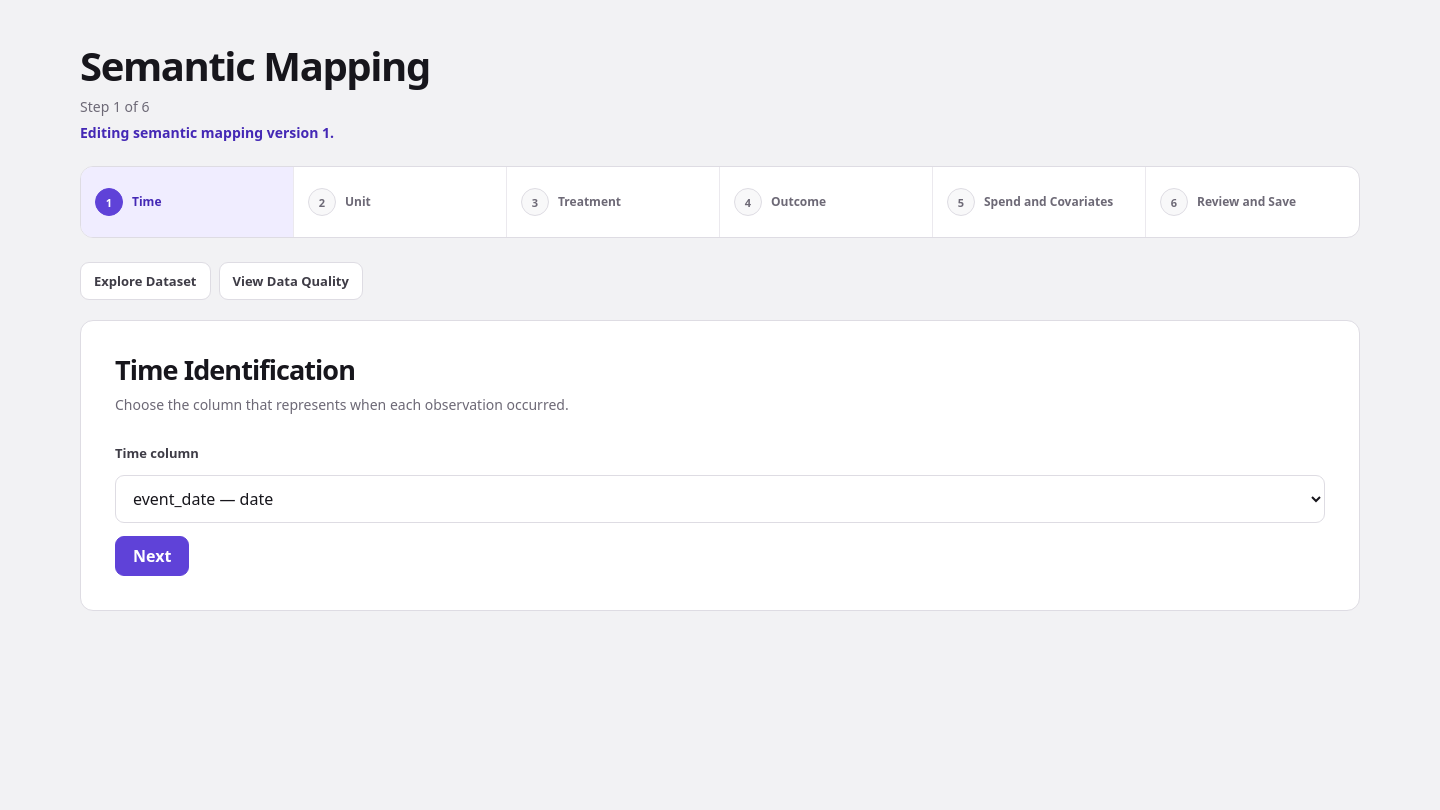
Test: Semantic Mapping final defensive validation › blocks an invalid stale draft before Review and Save
The image size is (1440, 810).
Expected: the text "Step 1 of 6" is shown, [80,97,150,116]
Click the button "Next" at (152, 556), box [115,536,189,576]
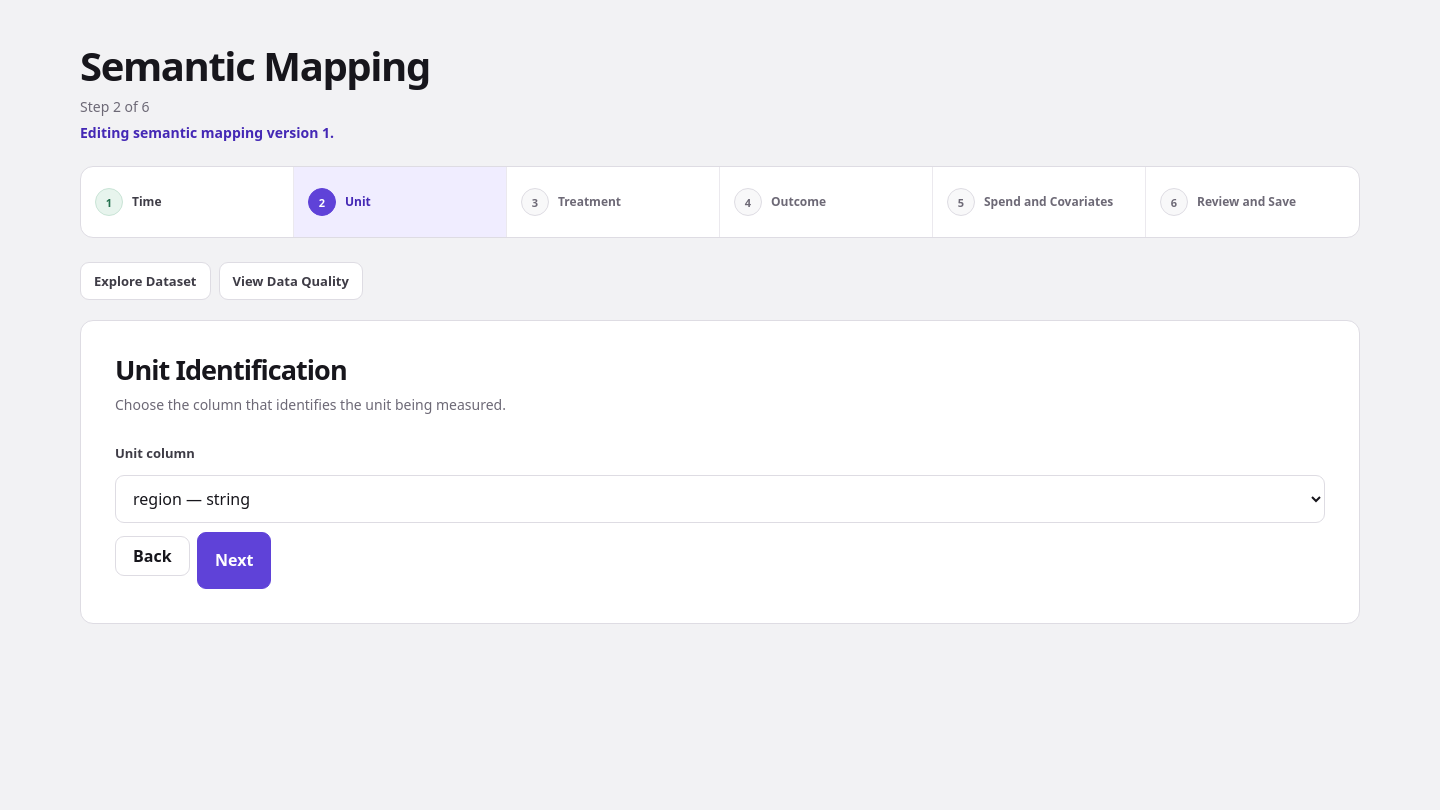
Click the button "Next" at (234, 560), box [197,532,271,589]
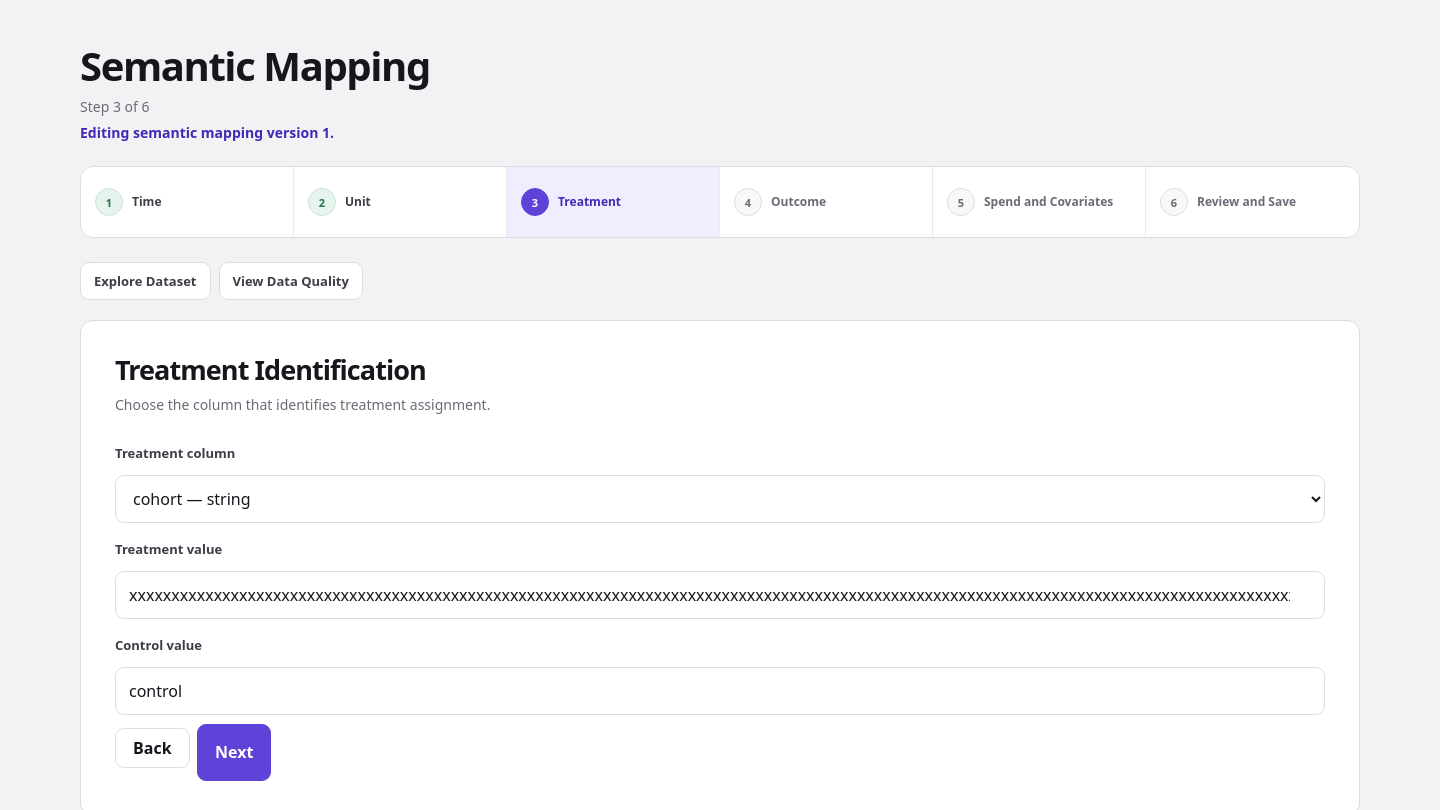
Click the button "Next" at (234, 752), box [197,724,271,781]
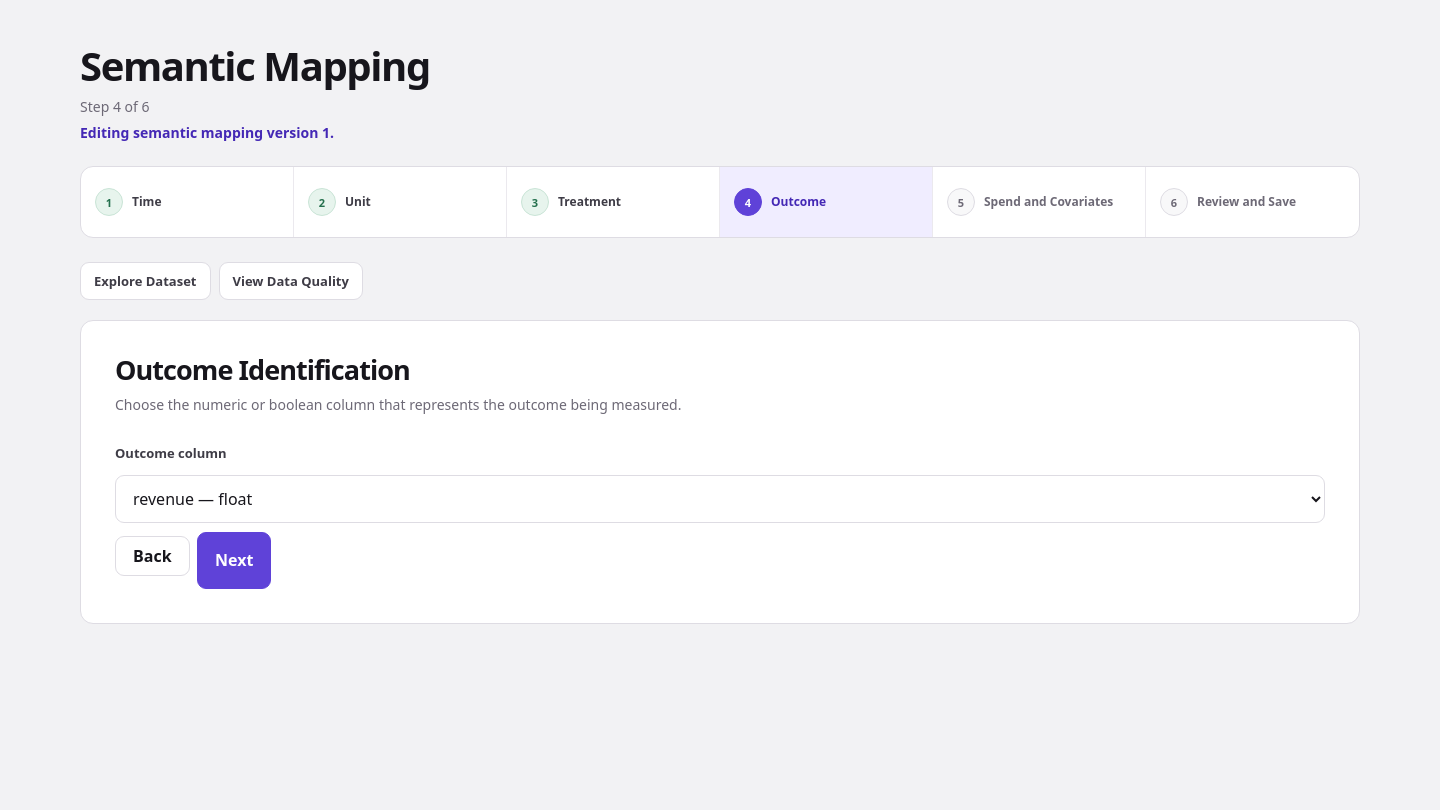
Click the button "Next" at (234, 560), box [197,532,271,589]
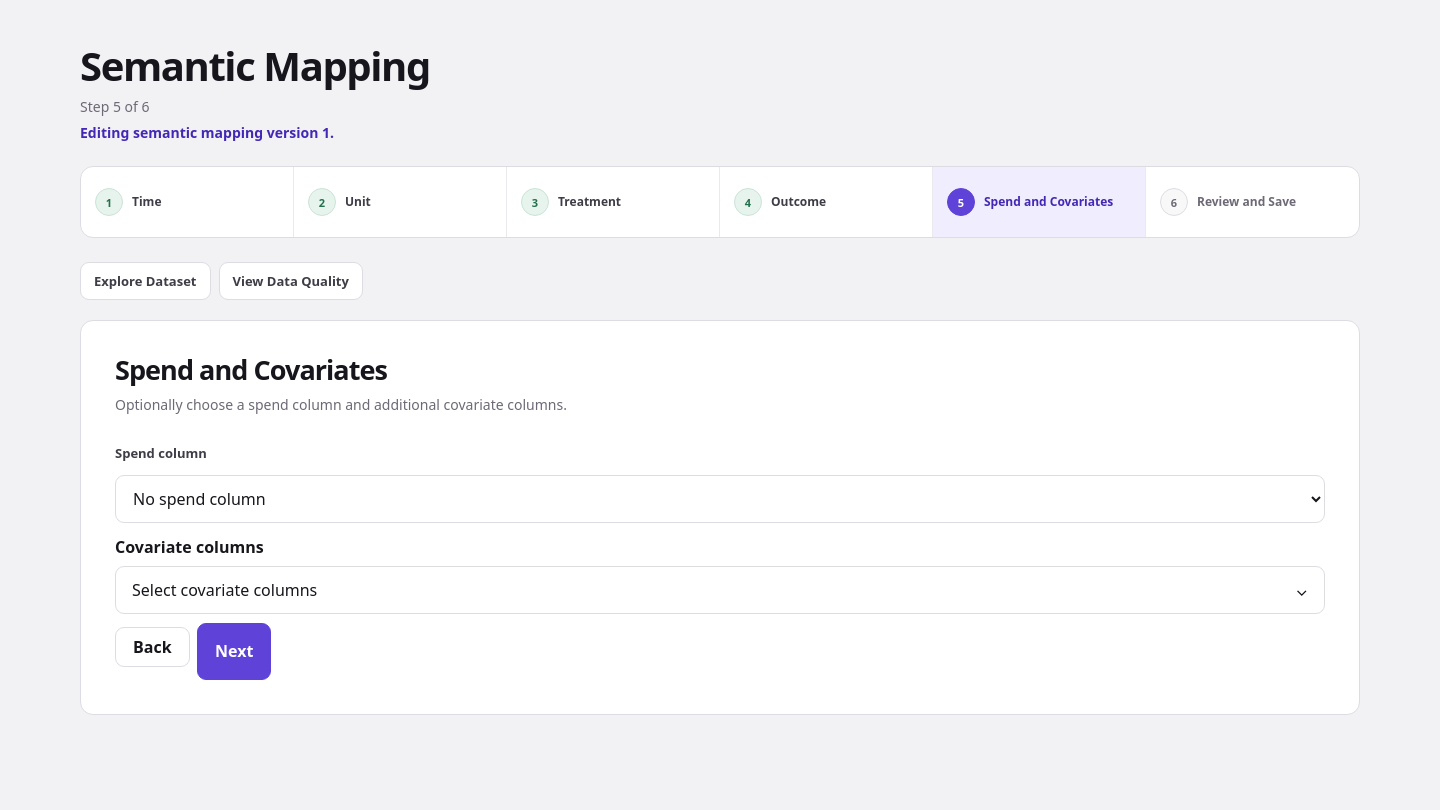
Result: the text "Step 5 of 6" is shown at [80,97,150,116]
// Attempt to enter Review and Save.
Click the button "Next" at (234, 651), box [197,623,271,680]
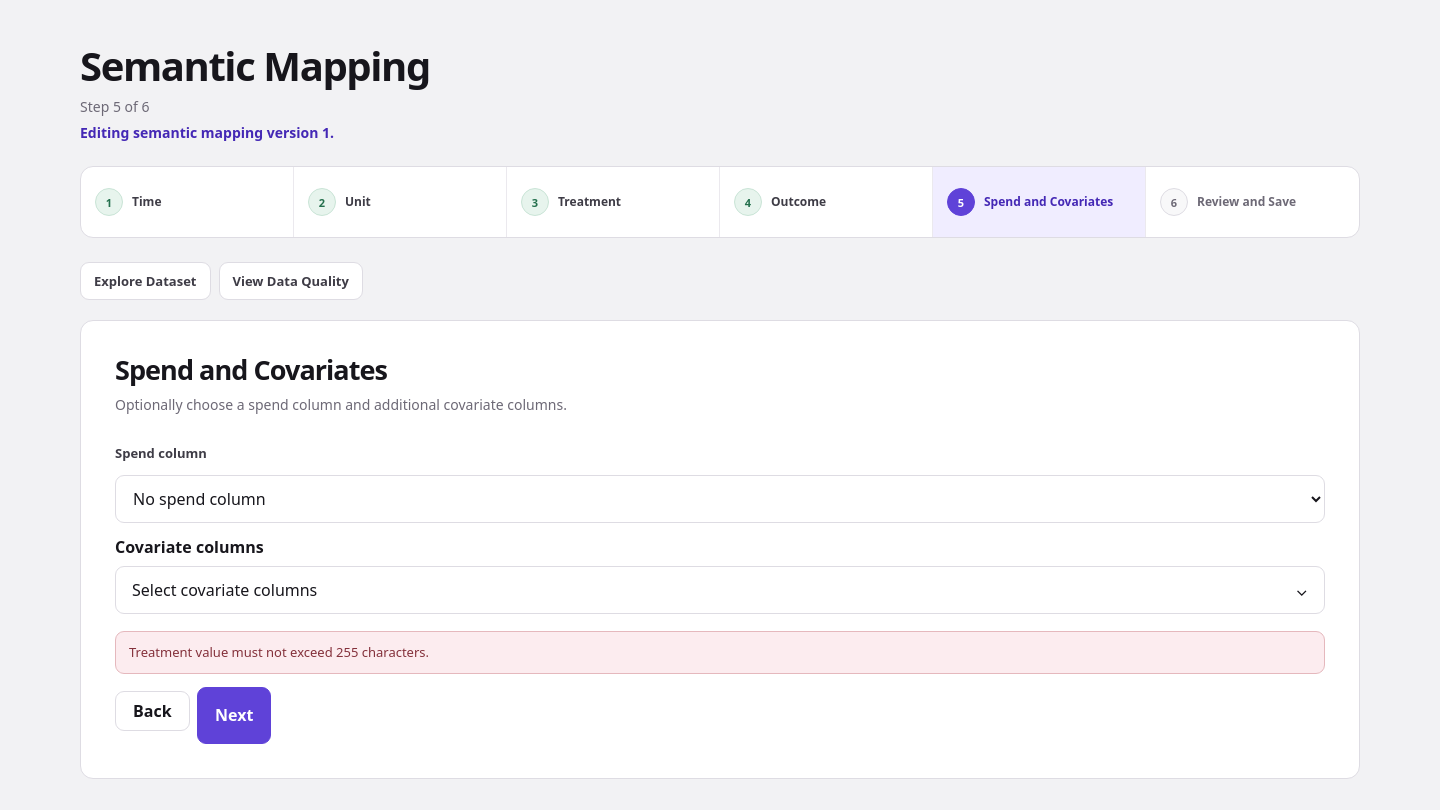
Result: the text "Step 5 of 6" is shown at [80,97,150,116]
Result: the message reads "Treatment value must not exceed 255 characters." at [129,643,429,661]
